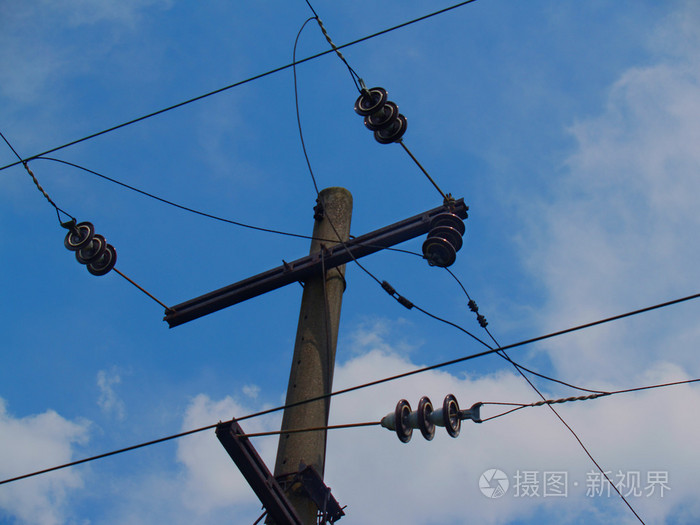insulator: (395, 391, 462, 443), (354, 86, 408, 145), (62, 223, 115, 278), (423, 215, 467, 266)
